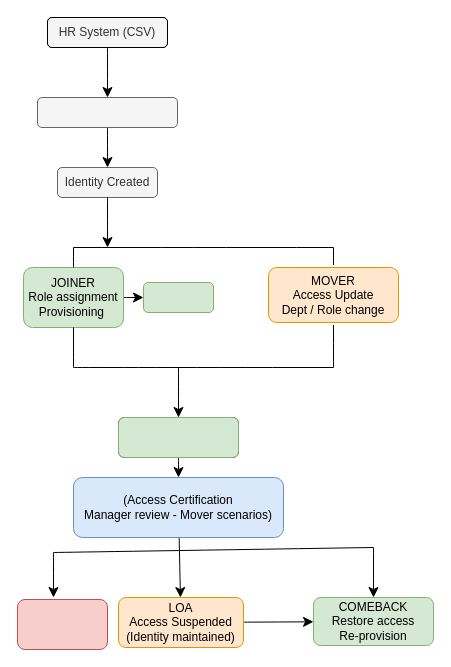
This 451x667 diagram has some shape labels left out. Here are the shapes that lost their labels. From the top down, the box of each, then its label:
(36, 96, 178, 128): IIQ Aggregation (Correlation Rules)
(142, 282, 214, 312): Target Systems
(118, 416, 238, 458): Active Identity
(16, 598, 108, 650): LEAVER Revocation Disable account
